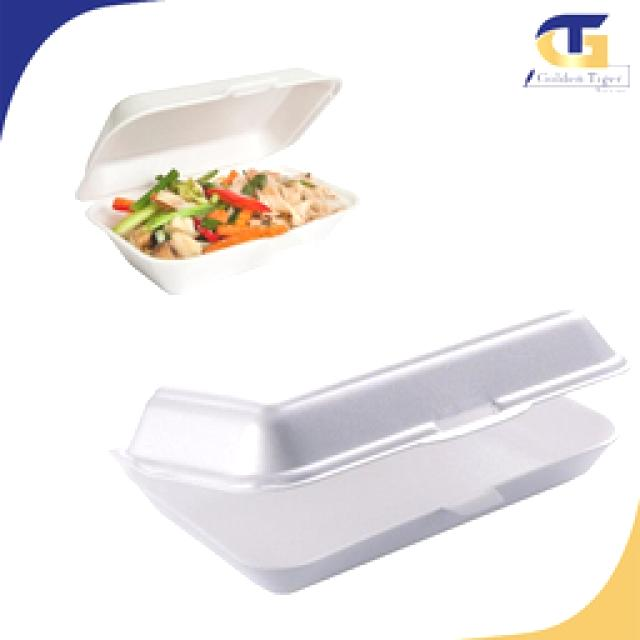wet: (105, 173, 341, 241)
